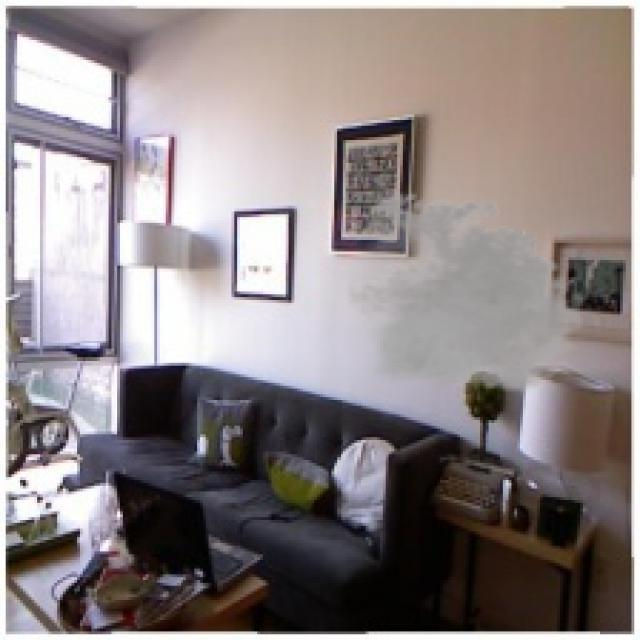Smoke: (332, 186, 592, 400)
